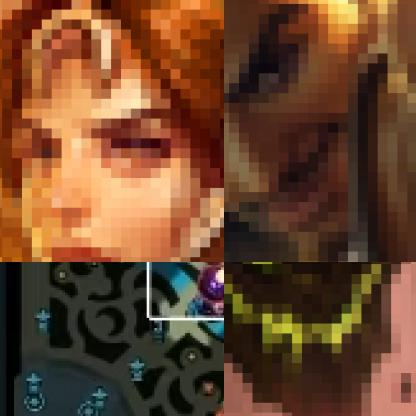Akshan: (224, 0, 415, 261)
Leblanc: (198, 288, 223, 323)
Leona: (0, 0, 223, 261)
Malphite: (224, 262, 415, 415)
Malzahar: (197, 265, 223, 303)
